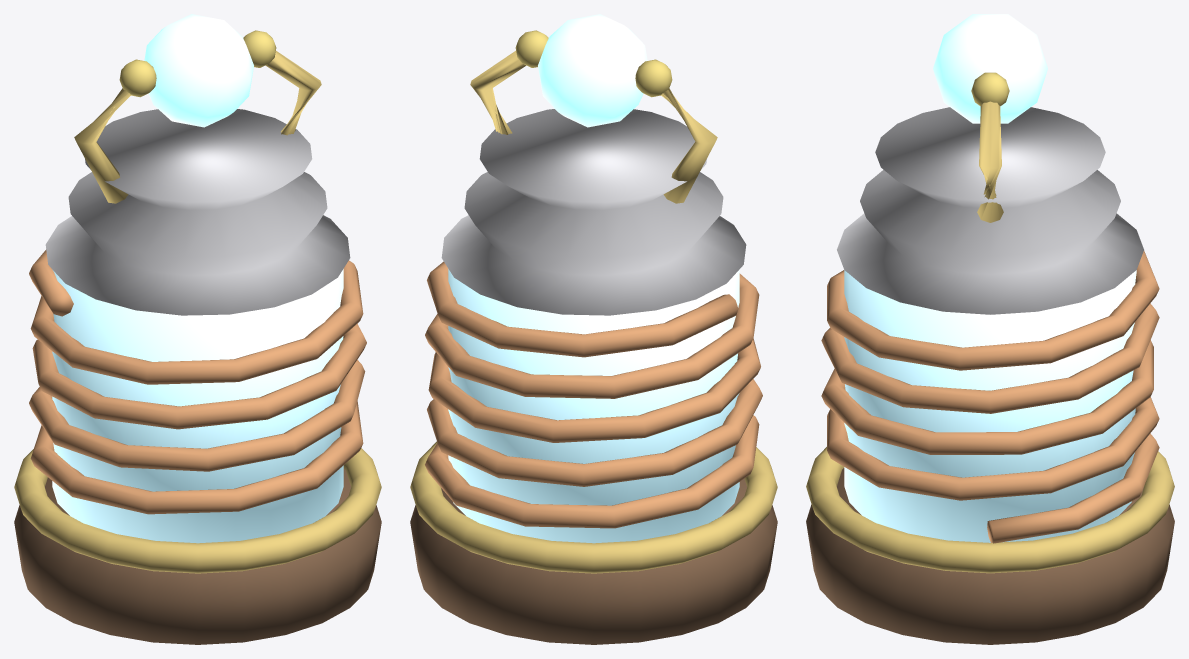
The model's file is REL_STORMCAP.glb.
The picture shows the model from 3 angles, left to right: view 1: azimuth 30°, elevation 25°; view 2: azimuth 150°, elevation 25°; view 3: azimuth 270°, elevation 25°; orthographic projection.
Visible parts, largest first — view 1: Insulator, CopperHelix, LeydenJar, LeydenBase, BaseBrassRim, PlasmaOrb, SparkRod-1, SparkRod1, RodTip-1, RodTip1; view 2: Insulator, CopperHelix, LeydenJar, LeydenBase, BaseBrassRim, PlasmaOrb, SparkRod-1, SparkRod1, RodTip-1, RodTip1; view 3: Insulator, CopperHelix, LeydenJar, LeydenBase, BaseBrassRim, PlasmaOrb, SparkRod1, RodTip1.
Boxes of the visible parts, bbox=[...] form: Insulator: bbox=[45, 109, 350, 315]; CopperHelix: bbox=[29, 249, 366, 514]; LeydenJar: bbox=[52, 269, 343, 543]; LeydenBase: bbox=[14, 468, 381, 644]; BaseBrassRim: bbox=[14, 448, 381, 573]; PlasmaOrb: bbox=[144, 14, 253, 127]; SparkRod-1: bbox=[74, 88, 131, 203]; SparkRod1: bbox=[266, 51, 321, 135]; RodTip-1: bbox=[119, 59, 156, 97]; RodTip1: bbox=[243, 30, 276, 67]; Insulator: bbox=[441, 109, 746, 315]; CopperHelix: bbox=[425, 261, 762, 528]; LeydenJar: bbox=[448, 269, 739, 543]; LeydenBase: bbox=[410, 478, 777, 644]; BaseBrassRim: bbox=[410, 441, 777, 573]; PlasmaOrb: bbox=[538, 14, 647, 127]; SparkRod-1: bbox=[661, 88, 717, 203]; SparkRod1: bbox=[470, 51, 525, 134]; RodTip-1: bbox=[635, 59, 672, 97]; RodTip1: bbox=[515, 30, 548, 67]; Insulator: bbox=[837, 107, 1143, 314]; CopperHelix: bbox=[821, 250, 1159, 543]; LeydenJar: bbox=[844, 270, 1136, 542]; LeydenBase: bbox=[806, 468, 1174, 644]; BaseBrassRim: bbox=[806, 447, 1174, 573]; PlasmaOrb: bbox=[933, 14, 1047, 123]; SparkRod1: bbox=[977, 101, 1003, 222]; RodTip1: bbox=[971, 72, 1009, 105].
Size of the model in its own units: 0.096 by 0.159 by 0.096.
